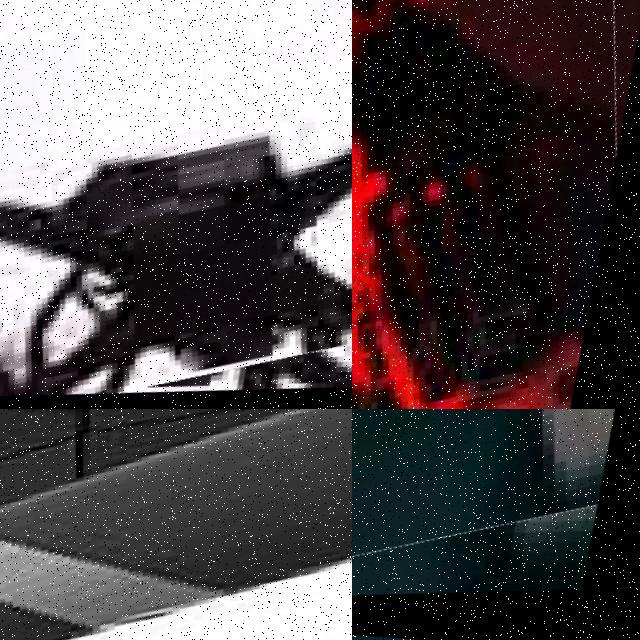0: (0, 0, 352, 409)
drone: (352, 0, 640, 409), (0, 409, 352, 640), (352, 409, 640, 640)
